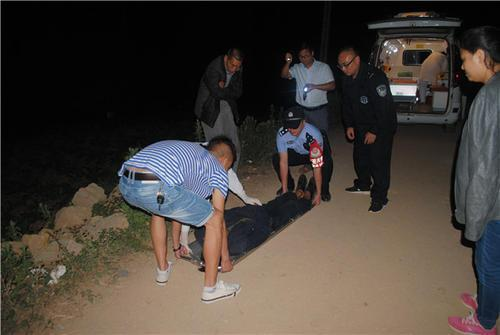Fall-Detected: (185, 167, 321, 272)
